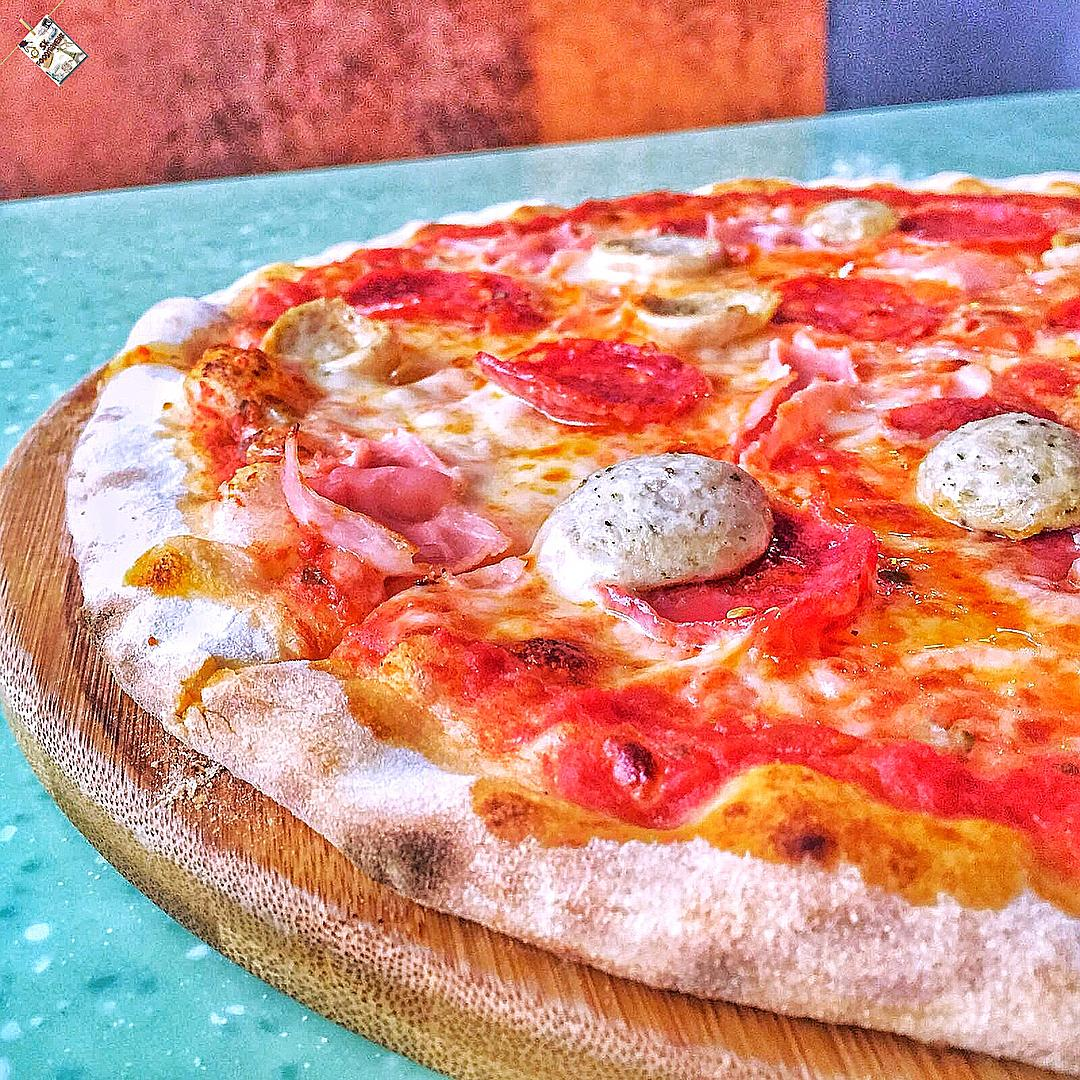Chicken: (521, 445, 776, 582), (911, 409, 1080, 534), (251, 289, 405, 380), (629, 289, 777, 332), (593, 231, 720, 269), (799, 195, 889, 244)
Ham: (269, 415, 502, 584), (609, 499, 861, 636), (473, 341, 712, 420), (735, 339, 869, 465), (343, 265, 552, 322), (781, 273, 950, 341), (909, 201, 1065, 253), (675, 211, 798, 252), (483, 233, 577, 265)
Pizza: (81, 169, 1080, 1080)
